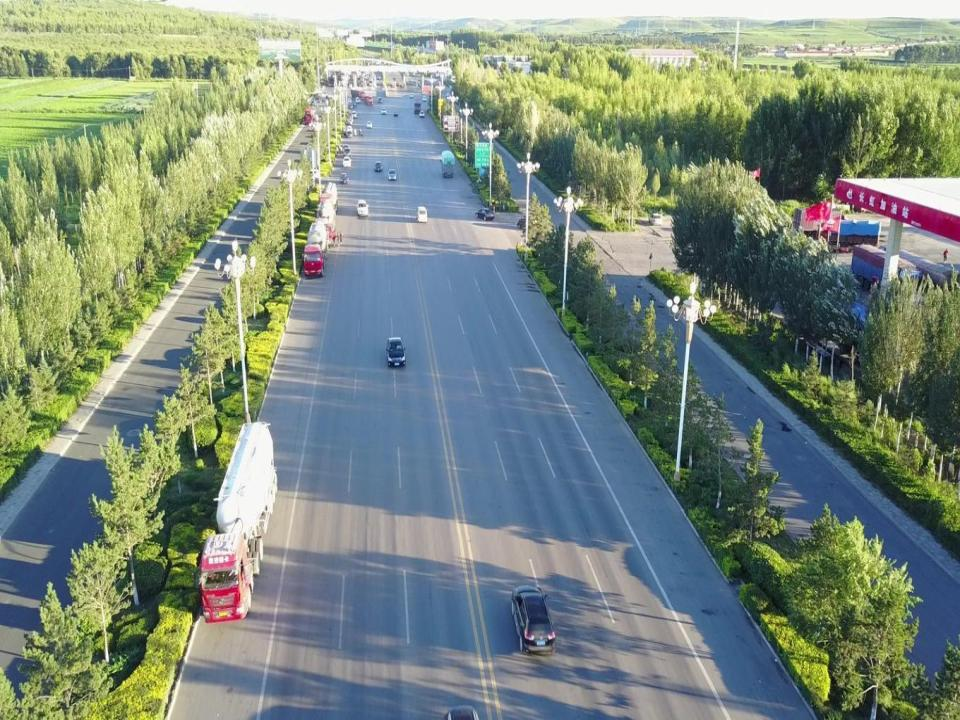car: (511, 584, 556, 656), (386, 337, 405, 366), (516, 214, 538, 229), (299, 168, 319, 180), (475, 208, 494, 220), (356, 198, 368, 216), (648, 213, 662, 225), (342, 156, 352, 168), (342, 147, 352, 158), (374, 161, 383, 172), (388, 168, 396, 180), (340, 173, 348, 184), (942, 248, 948, 262), (342, 144, 350, 152), (366, 120, 373, 129), (346, 131, 353, 137), (351, 111, 357, 118), (313, 95, 321, 100), (355, 96, 360, 104), (419, 111, 425, 117), (408, 92, 414, 98), (381, 107, 386, 114), (346, 98, 352, 103), (377, 97, 382, 103), (393, 110, 398, 116), (310, 101, 315, 106), (347, 104, 352, 109), (422, 96, 426, 102), (446, 92, 450, 97)
truck: (193, 423, 278, 623), (850, 243, 922, 306), (895, 248, 957, 316), (816, 218, 882, 254), (793, 207, 853, 240), (302, 222, 328, 277), (314, 199, 335, 243), (319, 183, 337, 214), (440, 150, 454, 178), (350, 88, 366, 100), (303, 108, 313, 124), (414, 98, 422, 114), (364, 95, 373, 106)
van: (416, 206, 427, 224)
